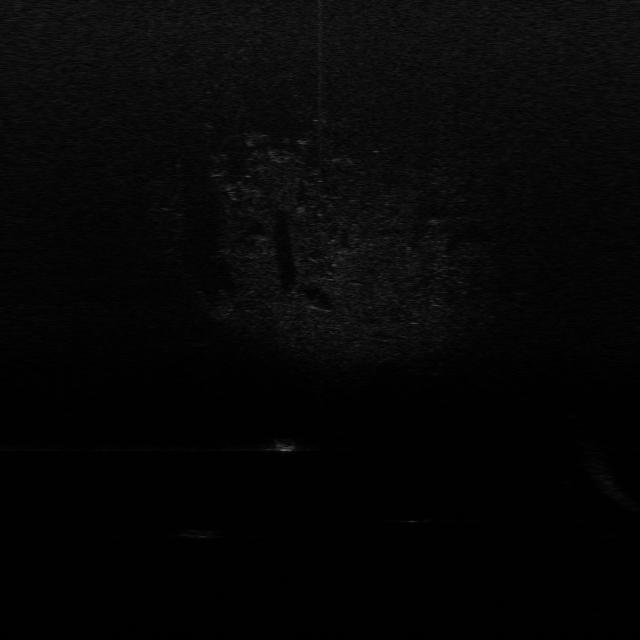cube: (176, 526, 220, 541)
square cage: (263, 434, 302, 454)
